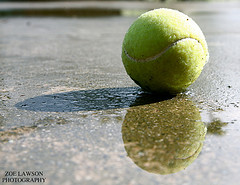tennis ball: (120, 7, 211, 95)
